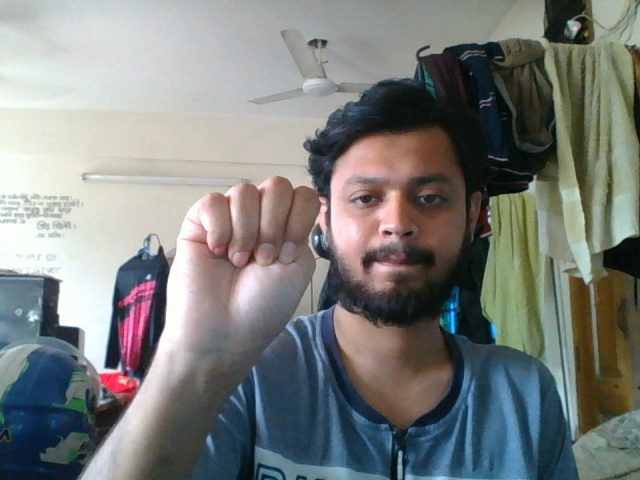to: (166, 173, 325, 364)
